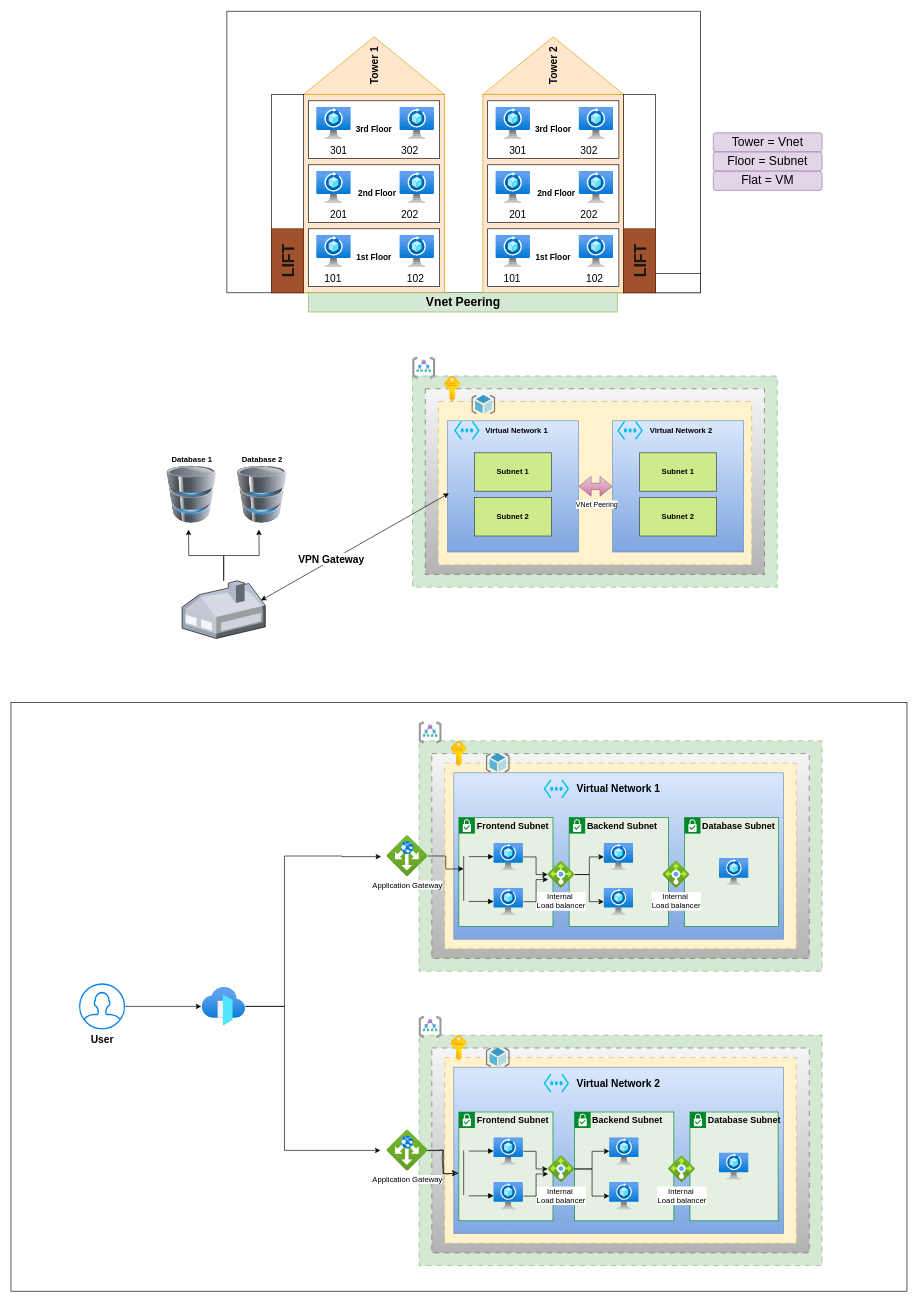
Image size: 918x1302. Some labels were removed from this diagram. The shapes that lost their labels are listed below. From the top down, each one's box as (x1, y1, x2, y2) in pixels, then its label:
(655, 273, 700, 293): Gate
(182, 580, 265, 638): on Prem Network
(202, 987, 245, 1025): Front Door
